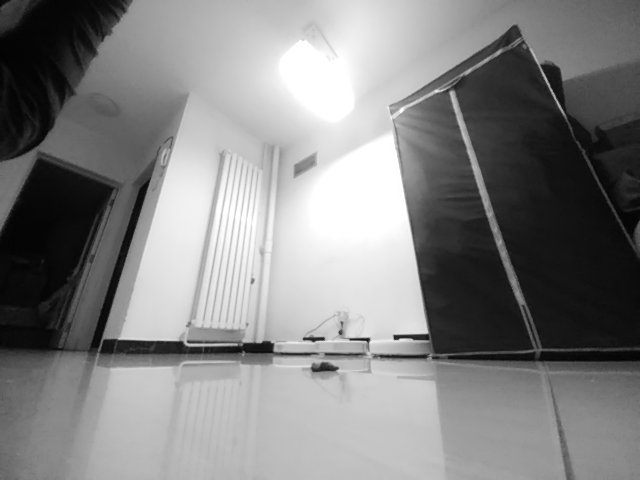pet feces: (310, 359, 340, 373)
